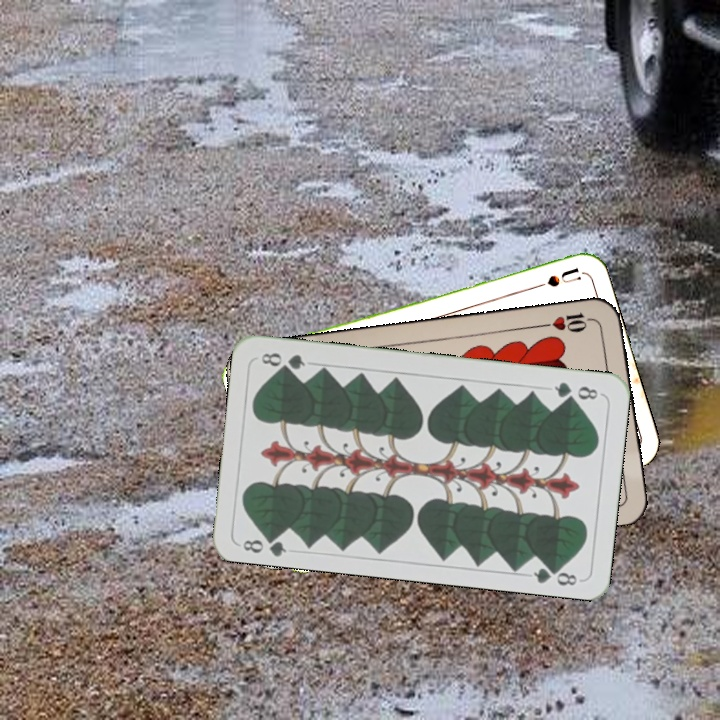G8: (239, 529, 289, 558), (550, 378, 604, 403)
H10: (538, 308, 597, 335)
SU: (524, 263, 583, 294)
